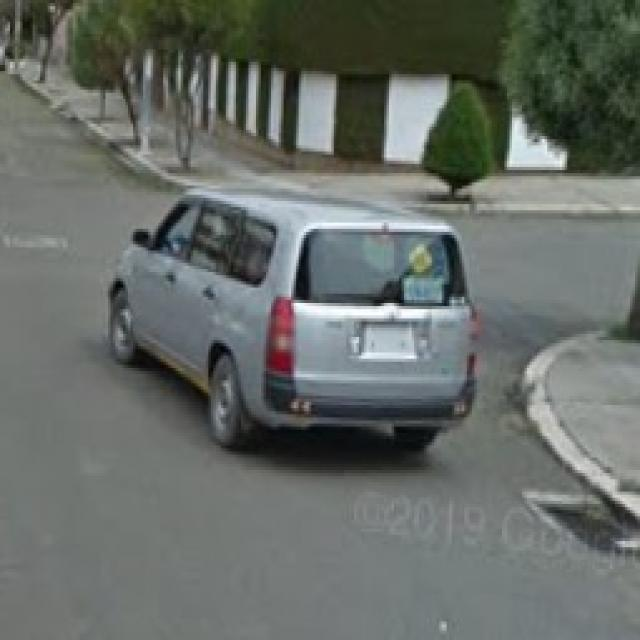cars: (118, 167, 476, 446)
